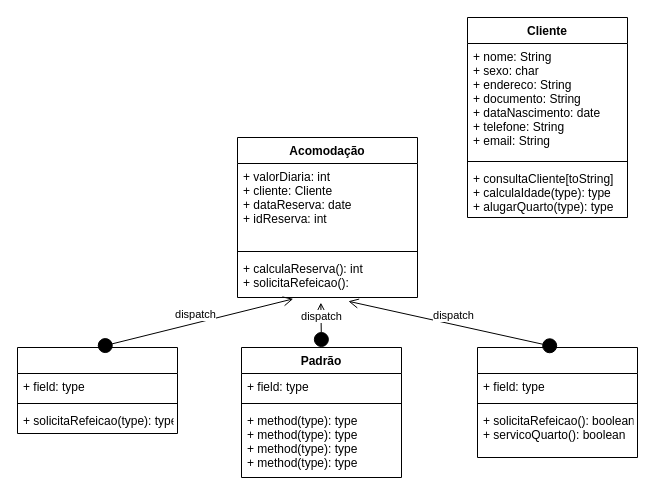
Some shapes in this 655 by 498 pixel diagram are drawn without their labels. The box of each missing label's shape, as (x1, y1, x2, y2) in pixels:
Luxo: (476, 346, 638, 458)
Simples: (16, 346, 178, 434)
